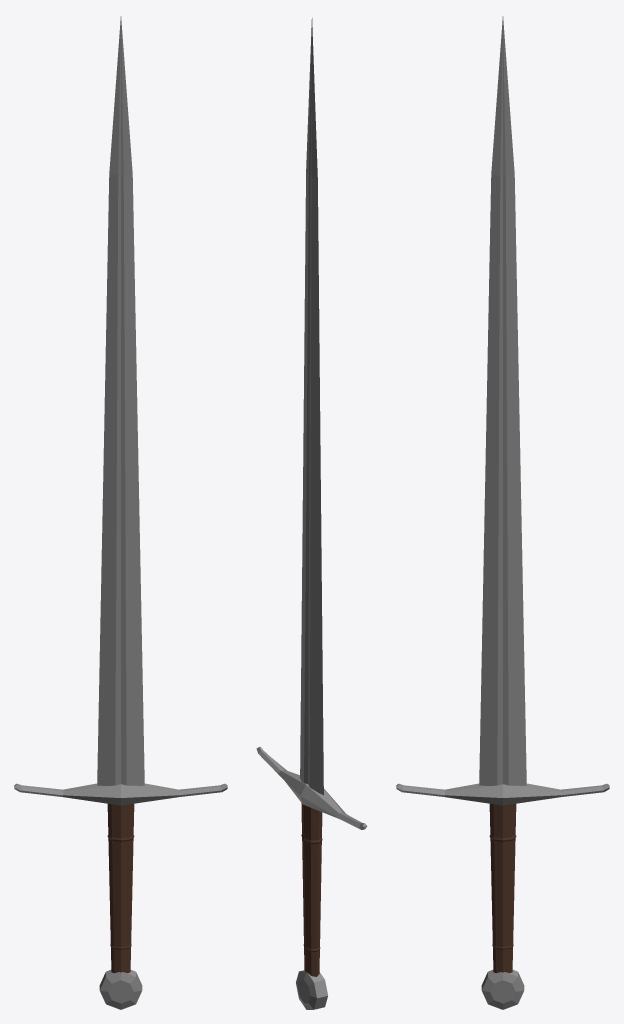
The model's file is longsword.gltf.
The picture shows the model from 3 angles, left to right: view 1: azimuth 90°, elevation 25°; view 2: azimuth 210°, elevation 25°; view 3: azimuth 270°, elevation 25°; orthographic projection.
Visible parts, largest first — view 1: Cube.001; view 2: Cube.001; view 3: Cube.001.
Boxes of the visible parts, x1,y1,x2,y2 form: Cube.001: (14,16,227,1009); Cube.001: (256,18,367,1009); Cube.001: (396,16,609,1009).
Size of the model in its own units: 0.0283 by 1.15 by 0.2246.
